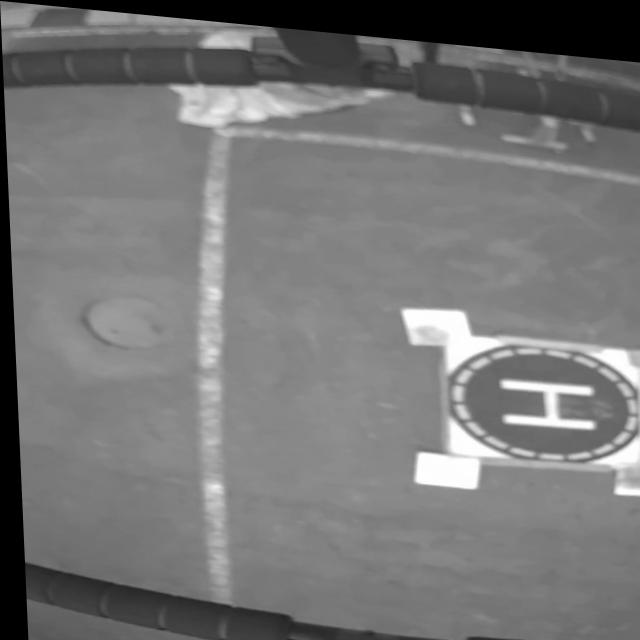Helipad: (494, 367, 595, 419)
